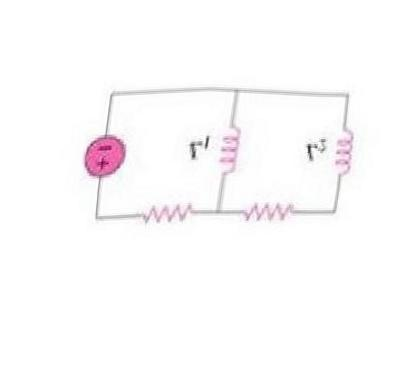Battery: (69, 126, 140, 189)
